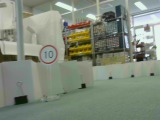speed_10: (38, 44, 59, 65)
